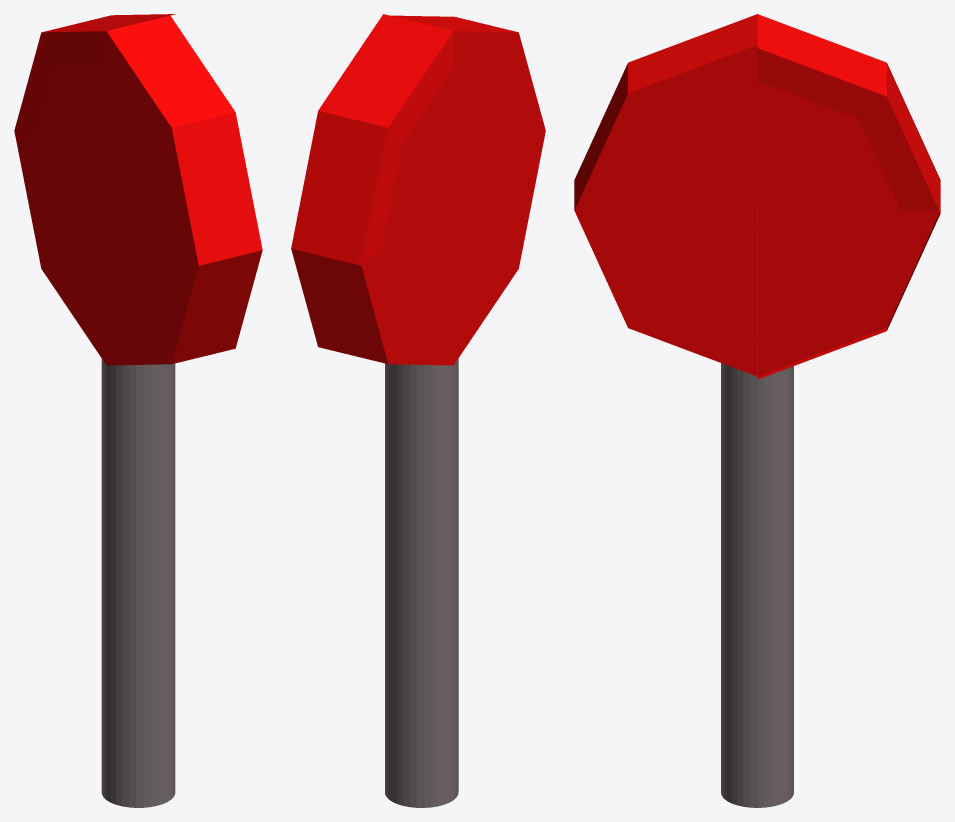
File: stop.fbx
3 views of the same model, side by side, from view 1: azimuth 30°, elevation 25°; view 2: azimuth 150°, elevation 25°; view 3: azimuth 270°, elevation 25° (orthographic).
Parts seen in each view (by area): view 1: Cylinder.001; view 2: Cylinder.001; view 3: Cylinder.001.
Part boxes in pixels (x1=…): Cylinder.001: x1=14, y1=14, x2=262, y2=807; Cylinder.001: x1=291, y1=14, x2=545, y2=807; Cylinder.001: x1=574, y1=14, x2=940, y2=807.
Bounding box in the file's own units: 11 × 115 × 50.
